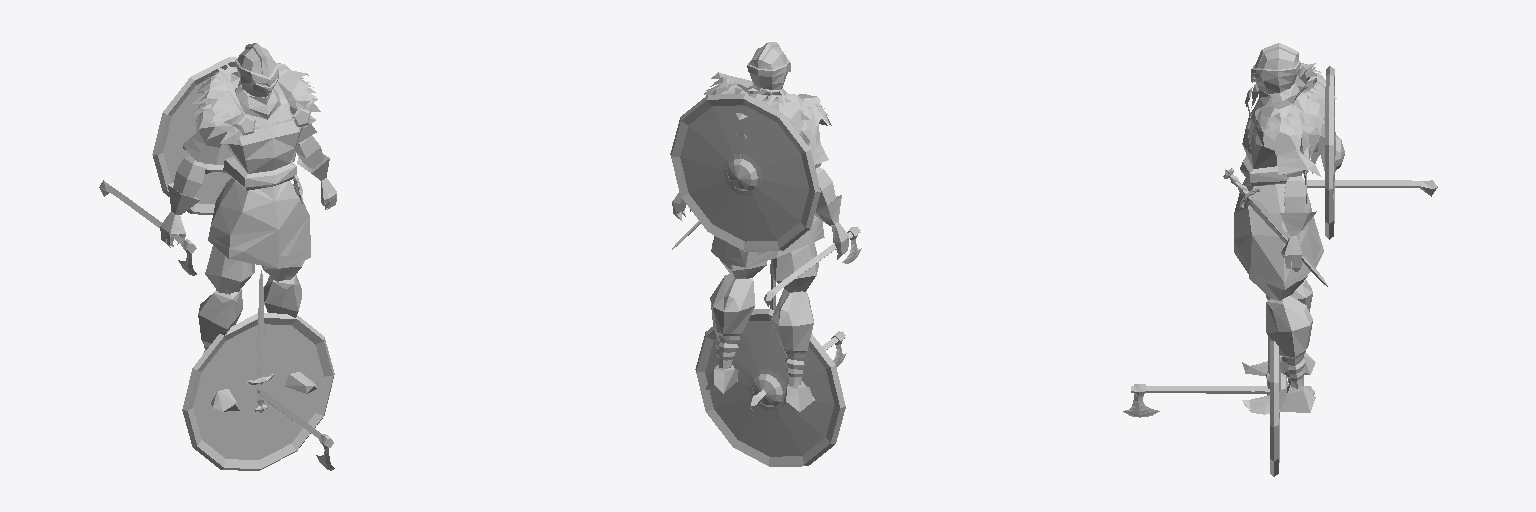
Rendered from viking_armour_man_1.obj.
3 renders of one model, left to right at view 1: azimuth 30°, elevation 25°; view 2: azimuth 150°, elevation 25°; view 3: azimuth 270°, elevation 25°, orthographic.
Visible parts, largest first — view 1: Viking, Shield.01, Shield, Sword.01, Axe_00, Axe_01; view 2: Shield, Viking, Shield.01, Axe_00; view 3: Viking, Shield, Axe_01, Shield.01, Sword_00, Axe_00.
Boxes of the visible parts, box(x1,y1,x2,y2) form: Viking: box(160, 43, 336, 411); Shield.01: box(182, 313, 334, 470); Shield: box(152, 57, 295, 214); Sword.01: box(247, 270, 273, 412); Axe_00: box(99, 180, 196, 275); Axe_01: box(255, 390, 334, 470); Shield: box(670, 94, 820, 251); Viking: box(672, 42, 848, 411); Shield.01: box(695, 309, 845, 466); Axe_00: box(764, 226, 861, 306); Viking: box(1234, 43, 1336, 414); Shield: box(1325, 66, 1344, 239); Axe_01: box(1123, 384, 1314, 417); Shield.01: box(1270, 340, 1288, 476); Sword_00: box(1223, 168, 1327, 286); Axe_00: box(1307, 180, 1437, 196).
Size of the model in its own units: 1.02 by 2.47 by 1.66.